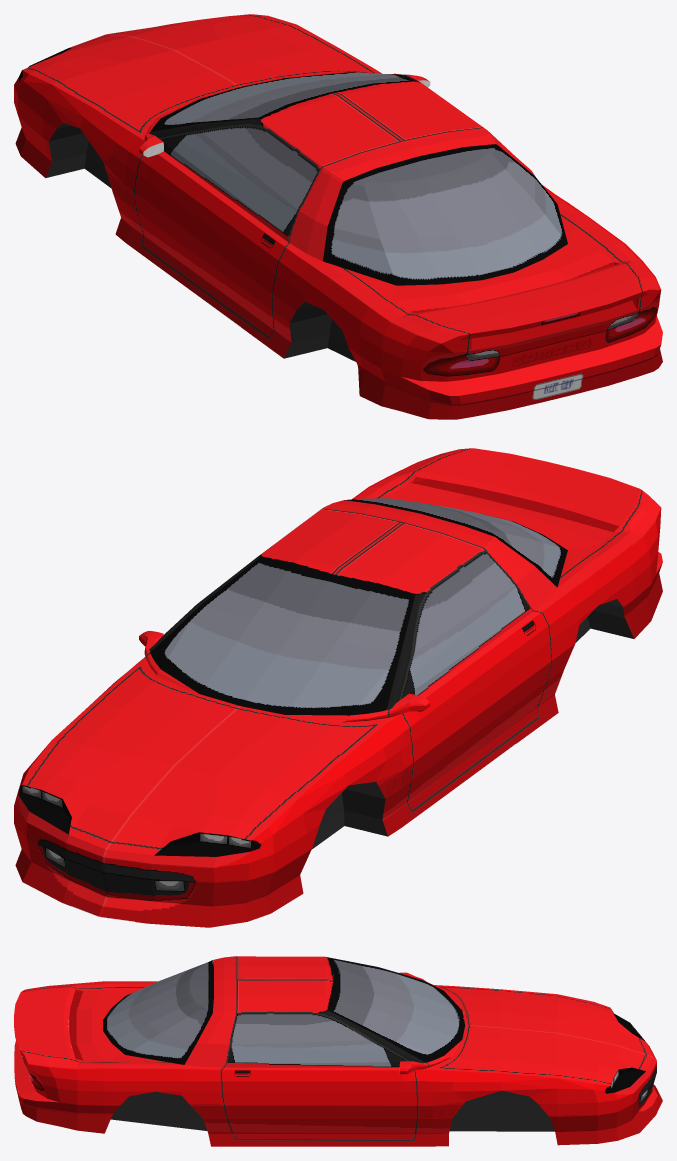
The model's file is 93camaro.fbx.
3 renders of one model, top to bottom at view 1: azimuth 30°, elevation 25°; view 2: azimuth 150°, elevation 25°; view 3: azimuth 270°, elevation 25°, orthographic. The views are drawn at different scales.
Parts seen in each view (by area): view 1: 93camaro; view 2: 93camaro; view 3: 93camaro.
Part boxes in pixels (<box>): 93camaro: <box>14,14,662,419</box>; 93camaro: <box>14,448,662,927</box>; 93camaro: <box>14,956,662,1146</box>.
Bounding box in the file's own units: 1.86 × 1.07 × 5.2.
